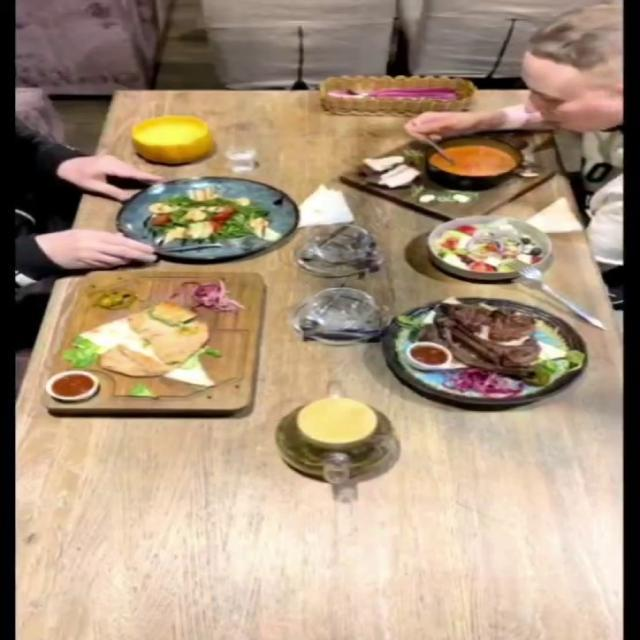meat: (42, 273, 264, 421), (378, 296, 590, 406)
salad: (114, 176, 297, 260), (426, 213, 555, 280)
soup: (335, 130, 556, 221), (130, 114, 214, 163)
tea: (272, 399, 398, 480)
